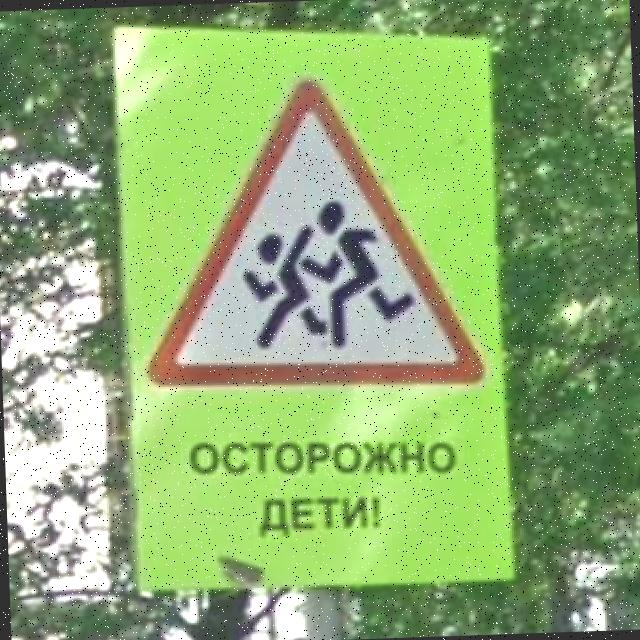Dzieci: (136, 70, 487, 398)
